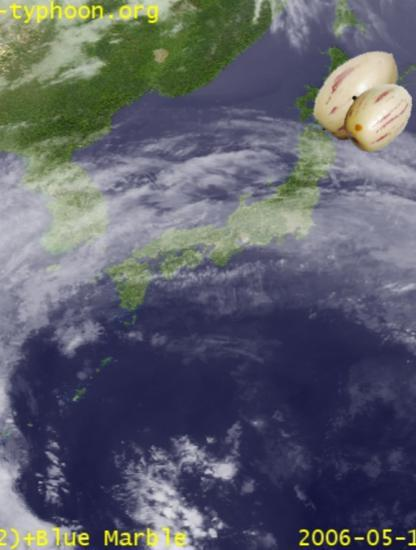Pepino: (308, 42, 412, 146), (338, 77, 416, 155)
